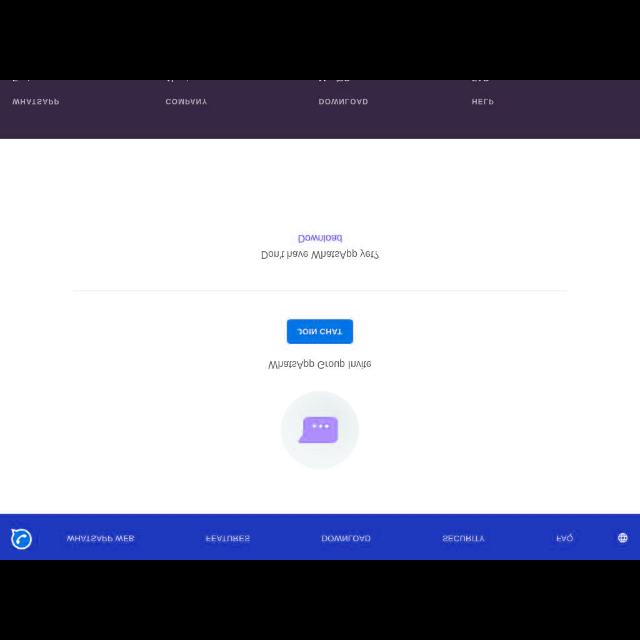icon: (618, 532, 628, 544)
image: (283, 392, 359, 468), (12, 528, 32, 550)
text: (262, 248, 378, 260), (267, 359, 371, 369), (66, 534, 134, 542), (298, 233, 342, 243), (298, 328, 342, 336), (443, 534, 485, 542), (318, 98, 368, 104), (322, 536, 371, 542), (11, 98, 59, 104), (206, 536, 250, 542), (166, 98, 208, 104), (556, 534, 574, 542), (472, 98, 494, 104)
textbutton: (287, 318, 353, 344)
toolbar: (1, 514, 640, 558)
